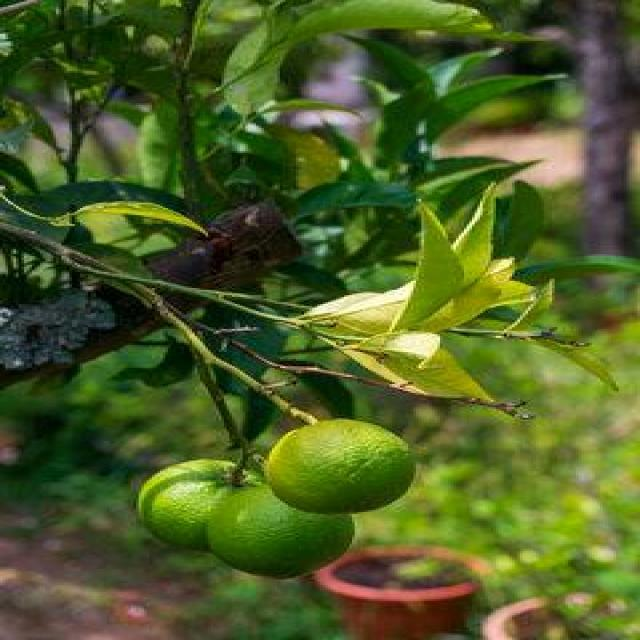Jeruk Belum Matang: (211, 484, 360, 582), (266, 418, 418, 514), (141, 458, 267, 544)
